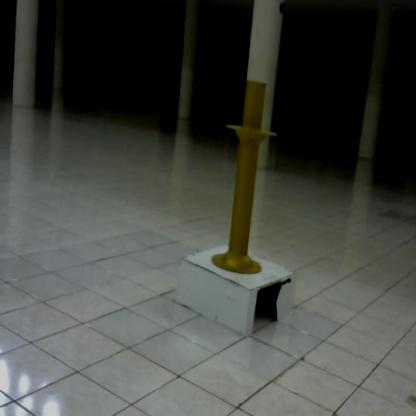pole: (213, 76, 281, 279)
